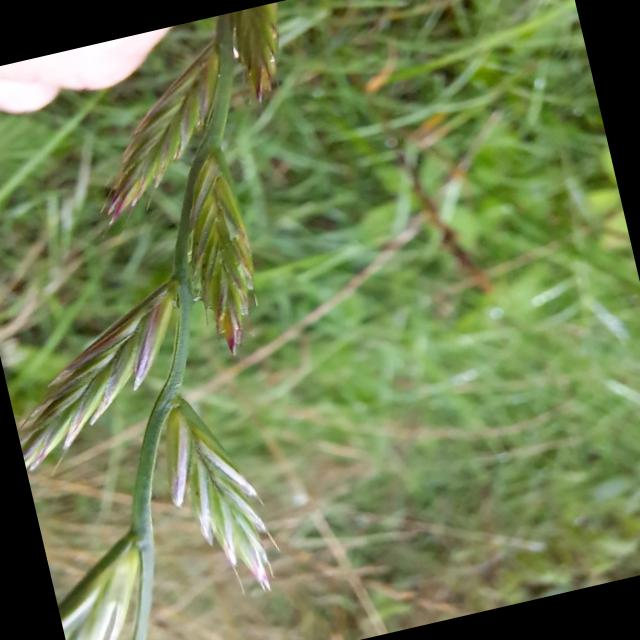Lolium: (0, 4, 421, 640)
